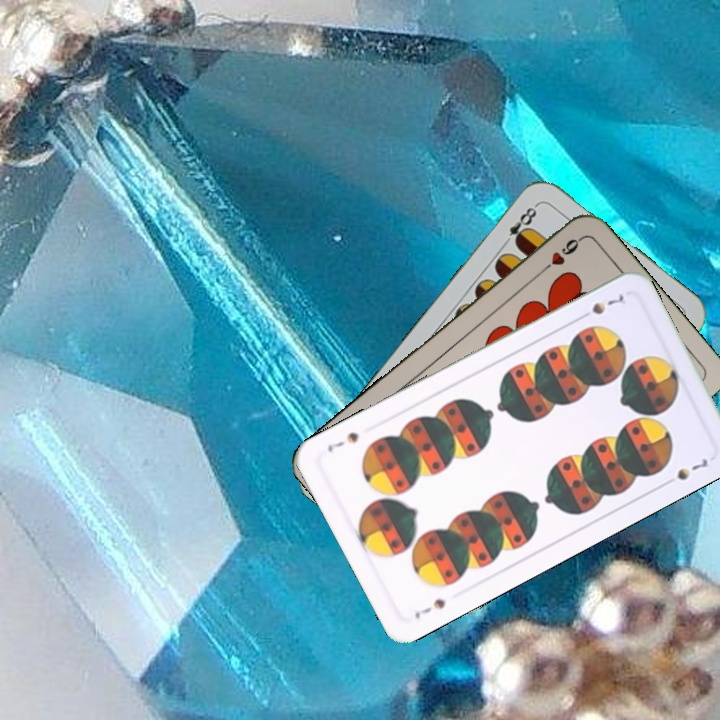E8: (498, 200, 541, 249)
H9: (536, 233, 585, 277)
S7: (574, 289, 630, 323), (410, 594, 448, 622)
